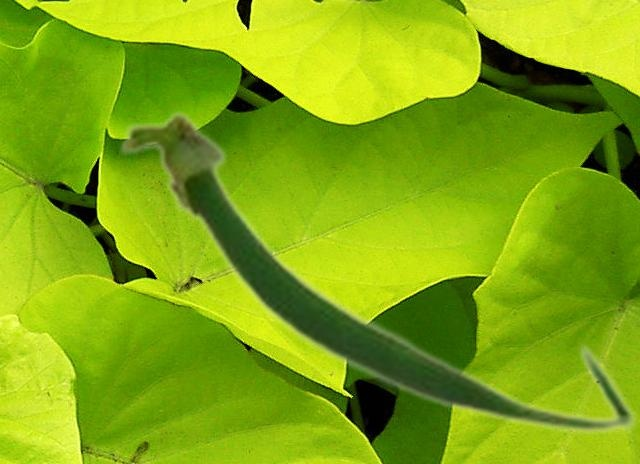french_bean: (116, 106, 638, 436)
